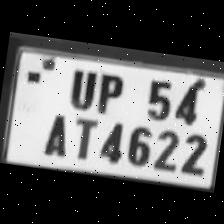2: (148, 122, 182, 174), (176, 126, 210, 177)
4: (169, 73, 208, 126), (93, 114, 126, 164)
5: (139, 72, 176, 119)
6: (121, 118, 155, 168)
A: (36, 105, 73, 159)
P: (92, 67, 128, 114)
T: (66, 110, 102, 160)
U: (62, 62, 100, 109)
